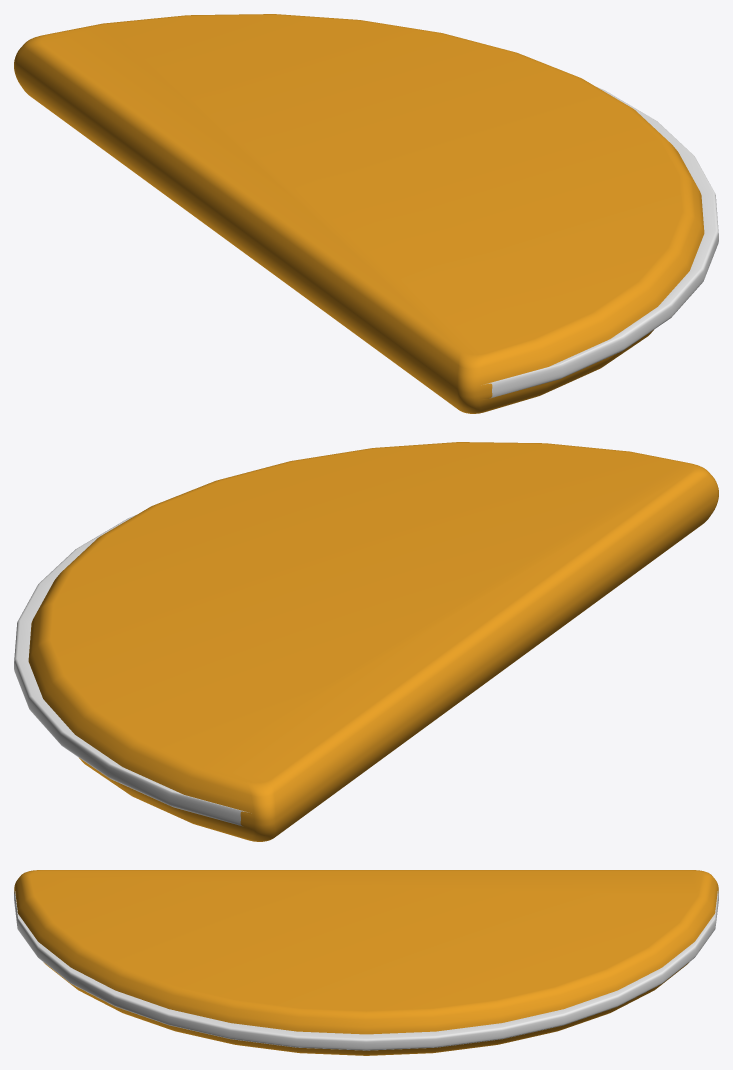
File: Quesadilla_Terminada.fbx
The picture shows the model from 3 angles, top to bottom: view 1: azimuth 30°, elevation 25°; view 2: azimuth 150°, elevation 25°; view 3: azimuth 270°, elevation 25°; orthographic projection. The views are drawn at different scales.
Visible parts, largest first — view 1: Qusadilla_Terminada; view 2: Qusadilla_Terminada; view 3: Qusadilla_Terminada.
Boxes of the visible parts, bbox=[...] form: Qusadilla_Terminada: bbox=[14, 14, 718, 413]; Qusadilla_Terminada: bbox=[14, 442, 718, 841]; Qusadilla_Terminada: bbox=[14, 870, 718, 1055].
Size of the model in its own units: 109 by 14.05 by 205.
